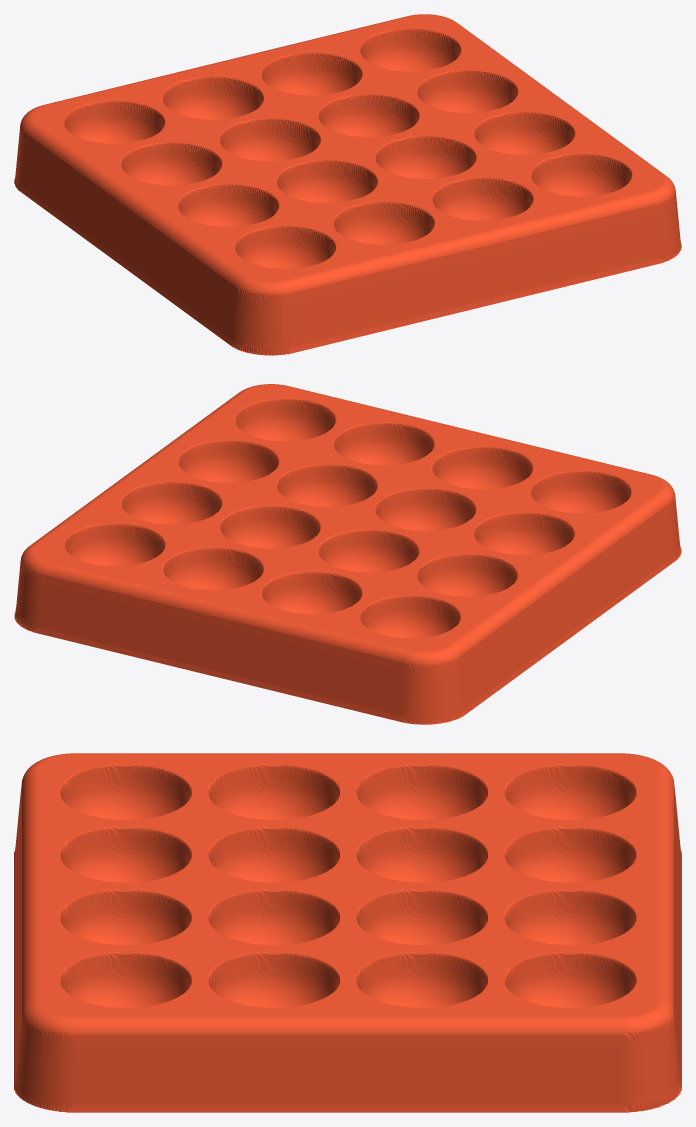
Rendered from mold.glb.
3 renders of one model, top to bottom at view 1: azimuth 30°, elevation 25°; view 2: azimuth 150°, elevation 25°; view 3: azimuth 270°, elevation 25°, orthographic. The views are drawn at different scales.
Visible parts, largest first — view 1: geometry_0; view 2: geometry_0; view 3: geometry_0.
Part boxes in pixels (x1,y1,x2,y2): geometry_0: (14, 14, 681, 355); geometry_0: (14, 384, 681, 724); geometry_0: (14, 753, 681, 1112).
Bounding box in the file's own units: 0.0992 × 0.014 × 0.0992.
